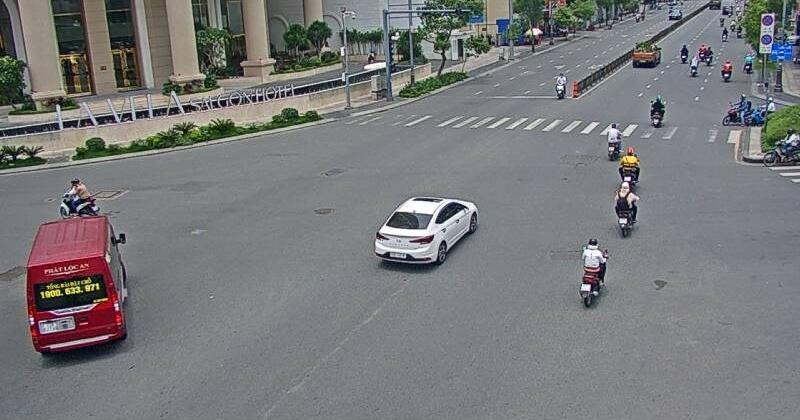xe hoi: (371, 194, 478, 269)
xe may: (578, 235, 608, 309), (56, 177, 99, 220), (612, 180, 639, 237), (615, 146, 641, 191), (604, 122, 622, 162), (648, 94, 666, 128)
xe tai: (24, 216, 130, 362)
